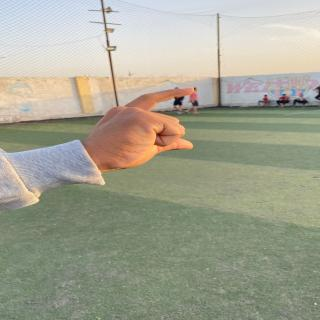DELL: (76, 78, 217, 177)
